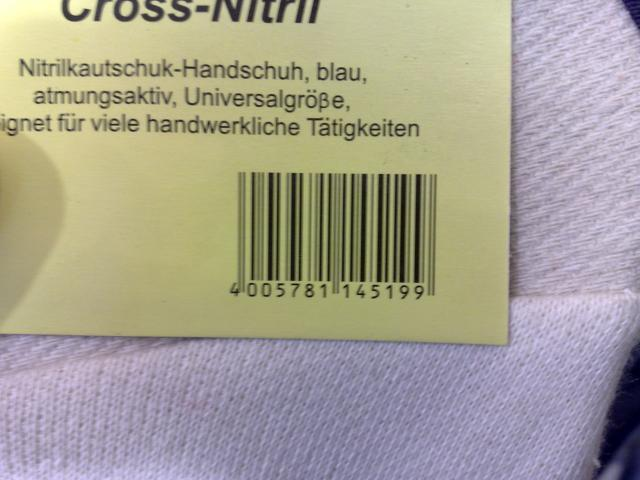Barcode: (223, 161, 443, 308)
